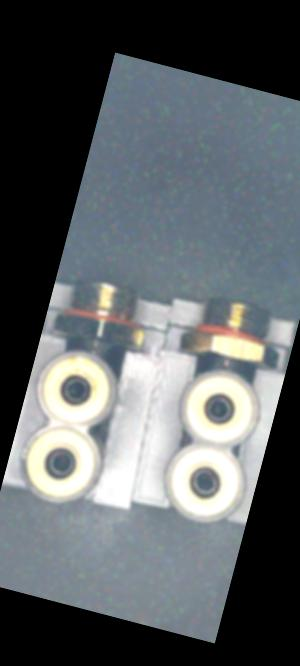craze: (87, 336, 104, 358), (217, 352, 234, 372)
off-centered: (178, 459, 223, 505)
